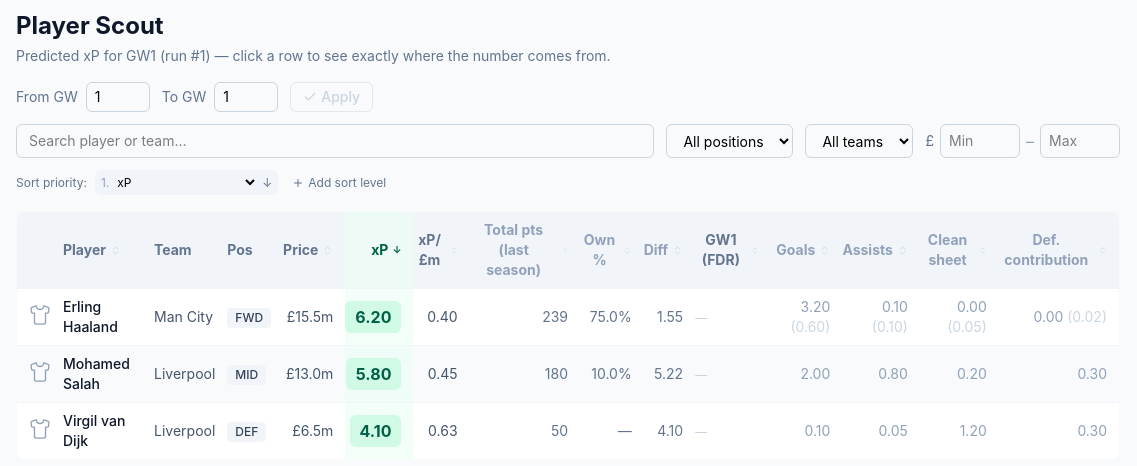
Test: PlayerScout › filters by position
Select "DEF" in the 1st dropdown at (730, 141), box left=666, top=124, right=793, bottom=158
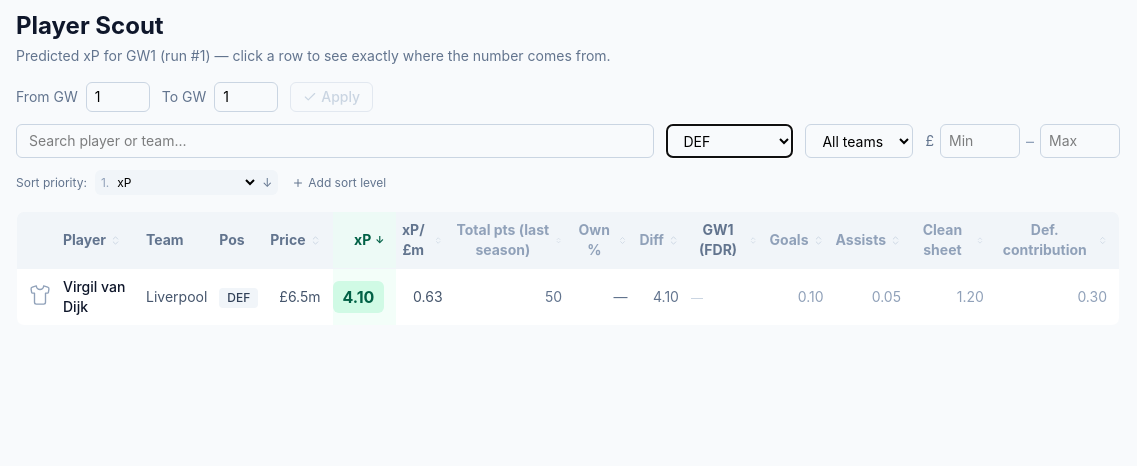
expect the text "Virgil van Dijk" is shown: met, box left=63, top=268, right=146, bottom=326
expect the text "Erling Haaland" is gone: met
